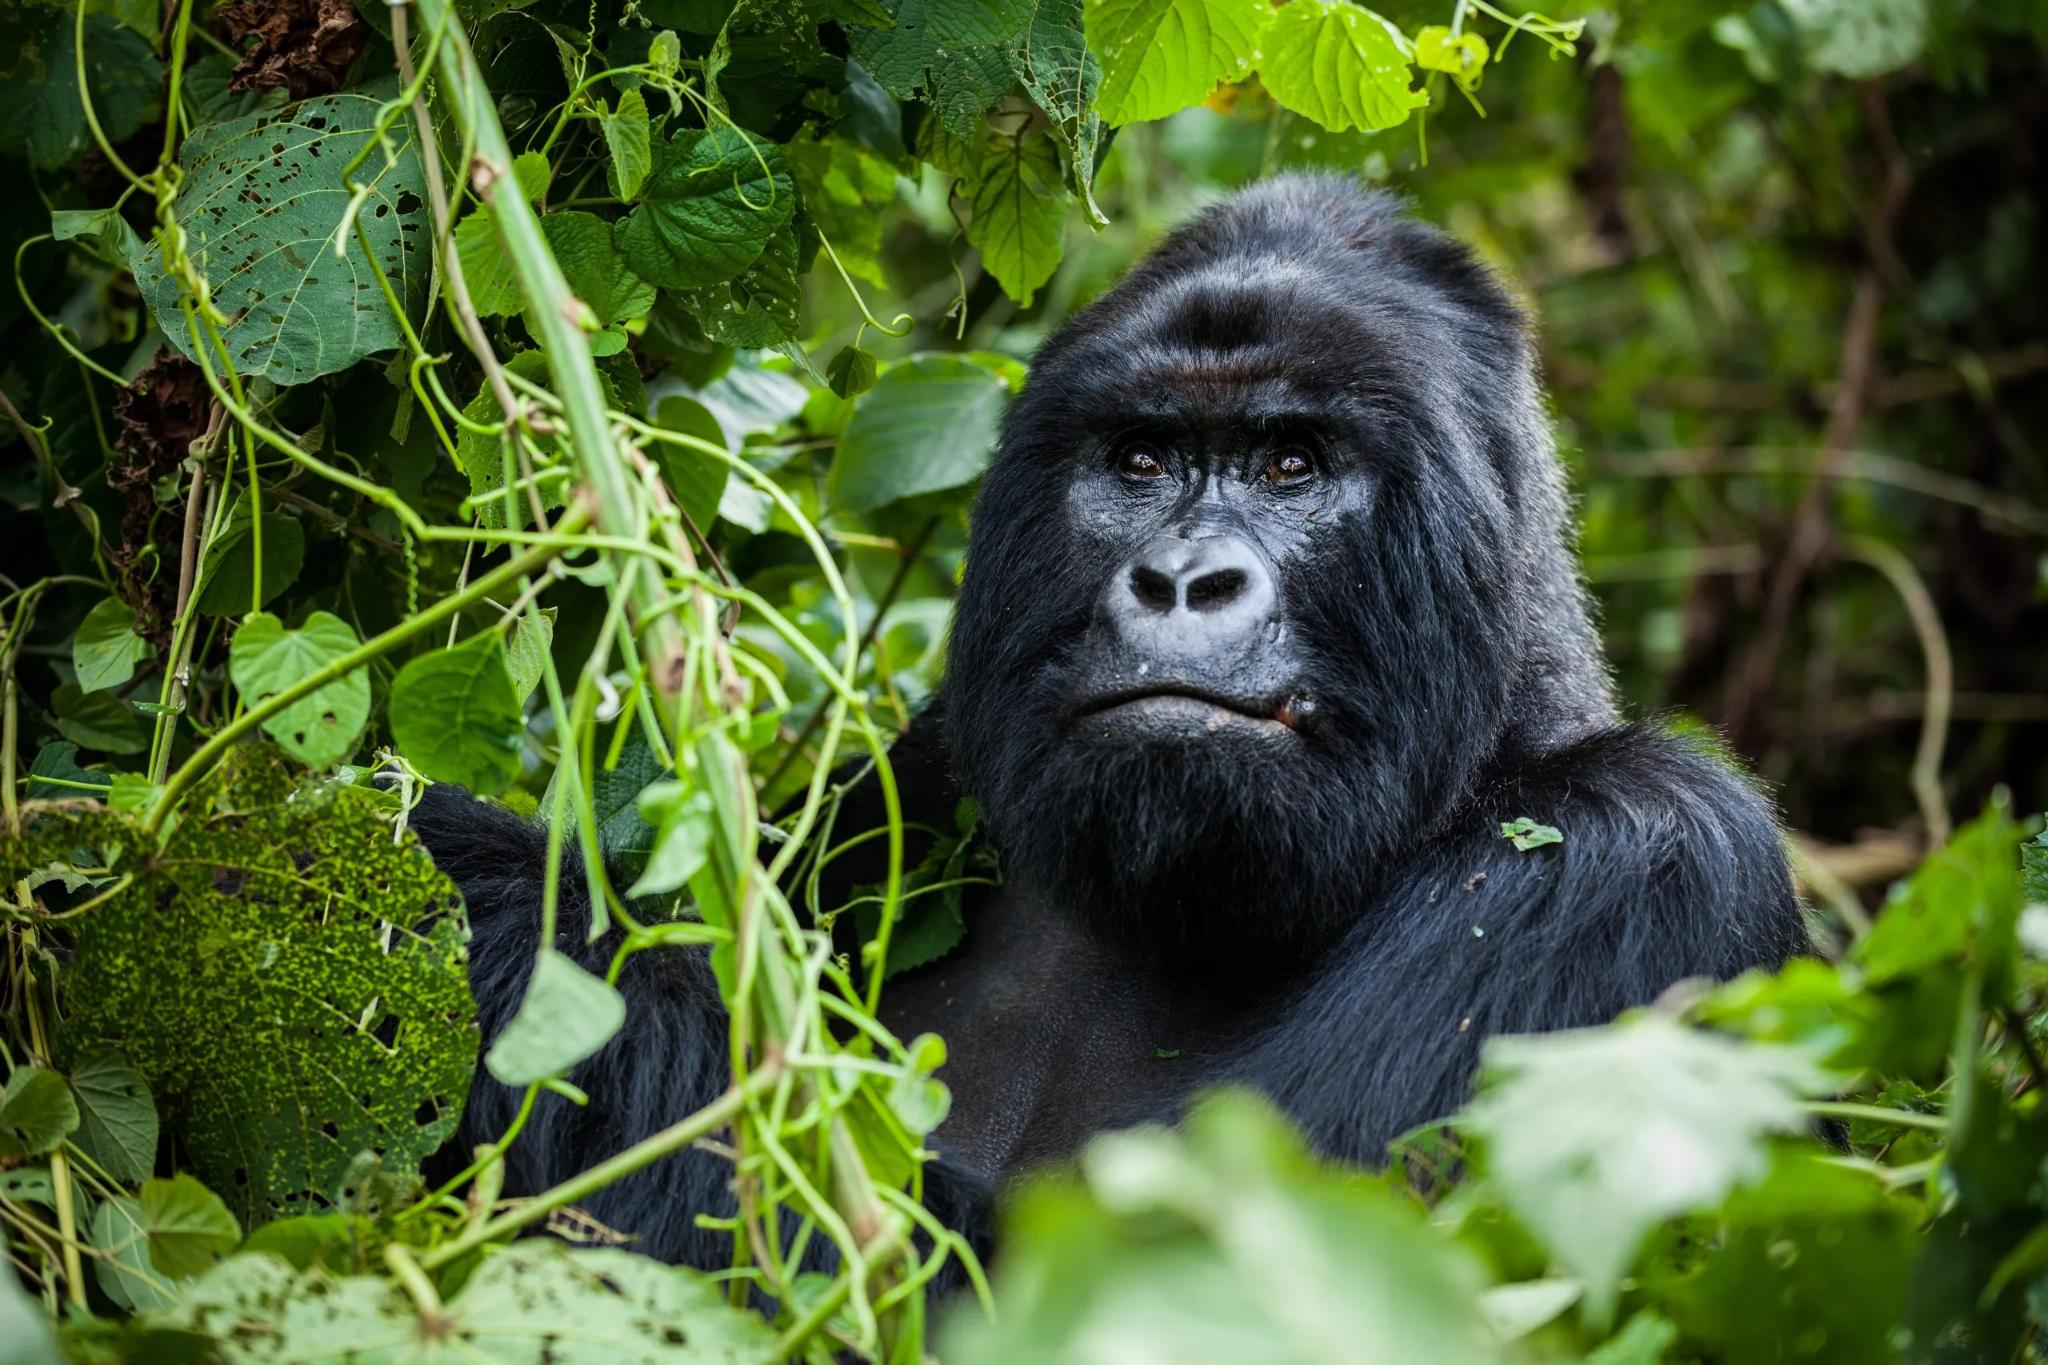goriile_montagne: (649, 125, 1838, 1202)
